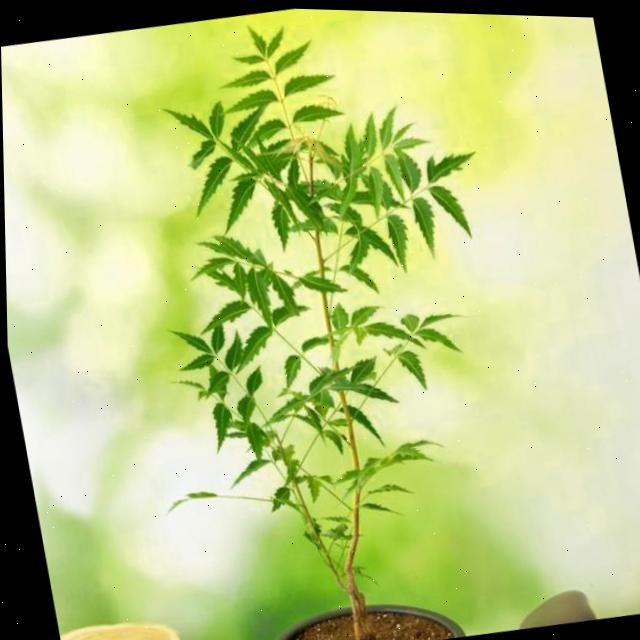Wet: (78, 2, 640, 640)
